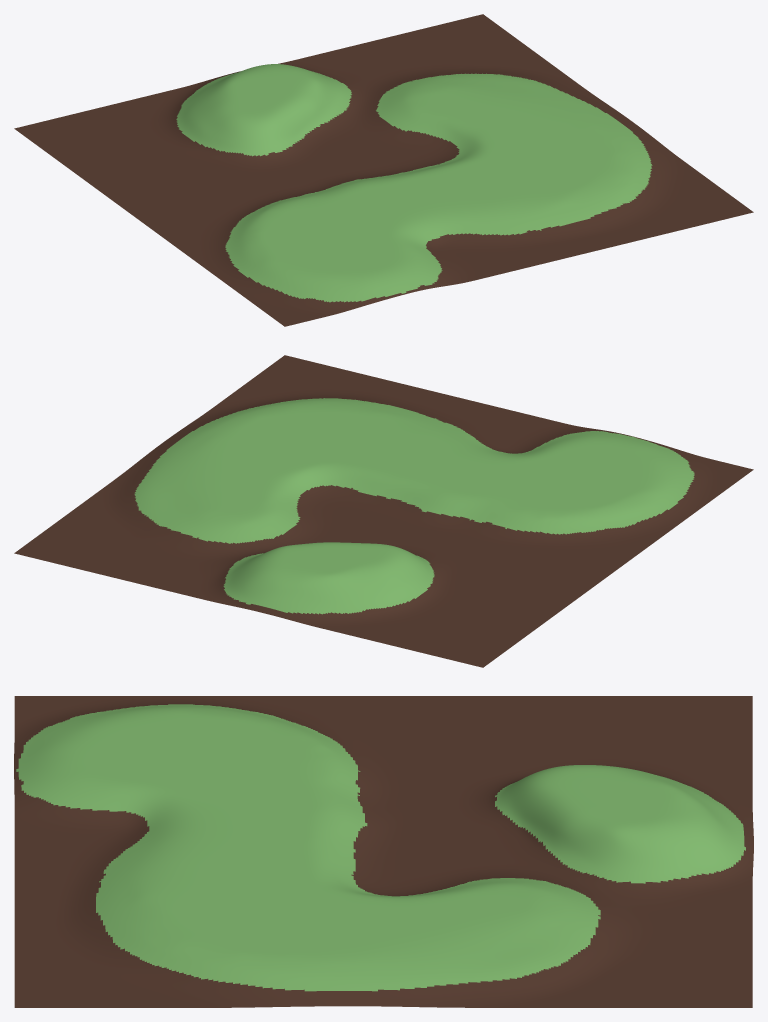
Rendered from Greed_Land_Version010.fbx.
The picture shows the model from 3 angles, top to bottom: view 1: azimuth 30°, elevation 25°; view 2: azimuth 150°, elevation 25°; view 3: azimuth 270°, elevation 25°; orthographic projection. The views are drawn at different scales.
Visible parts, largest first — view 1: Ground; view 2: Ground; view 3: Ground.
Part boxes in pixels (x1=…): Ground: x1=14, y1=14, x2=753, y2=326; Ground: x1=14, y1=355, x2=753, y2=667; Ground: x1=14, y1=696, x2=753, y2=1007.
Size of the model in its own units: 80065 by 4002 by 80221.
